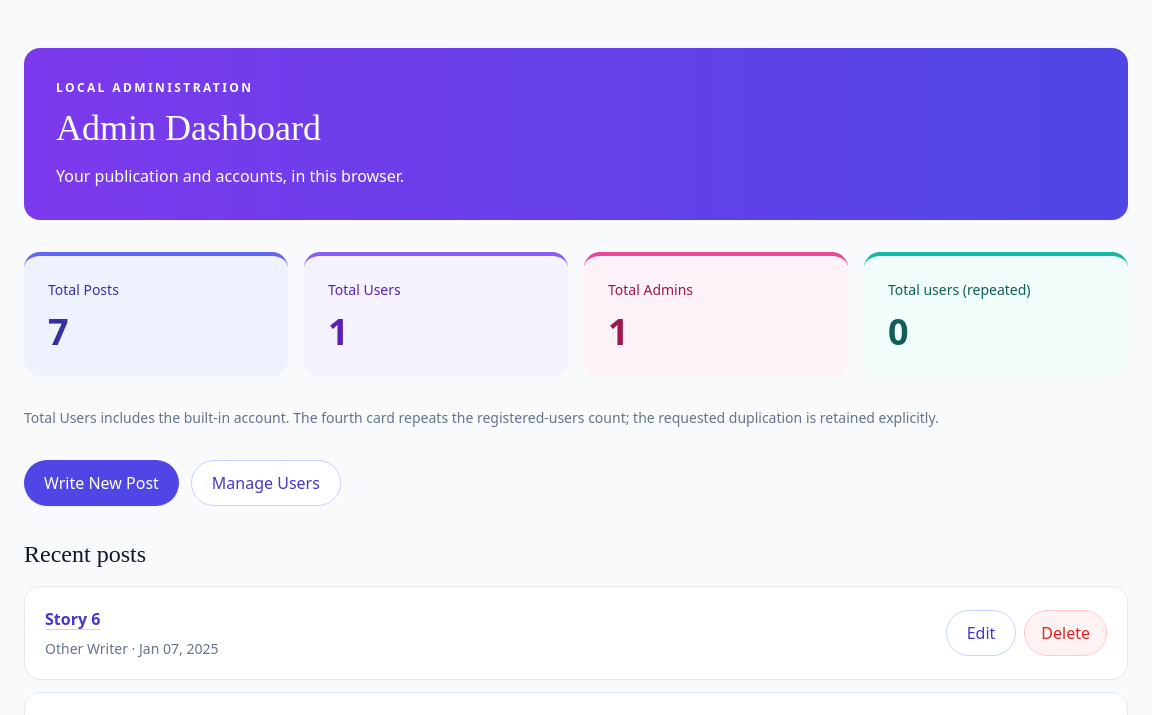
Test: AdminDashboard › cancel confirms no mutation, accept deletes another author and requeries newest fifth
Step 1. Click the button with aria-label "Delete Story 6" → (1066, 633), box [1024, 610, 1107, 656]
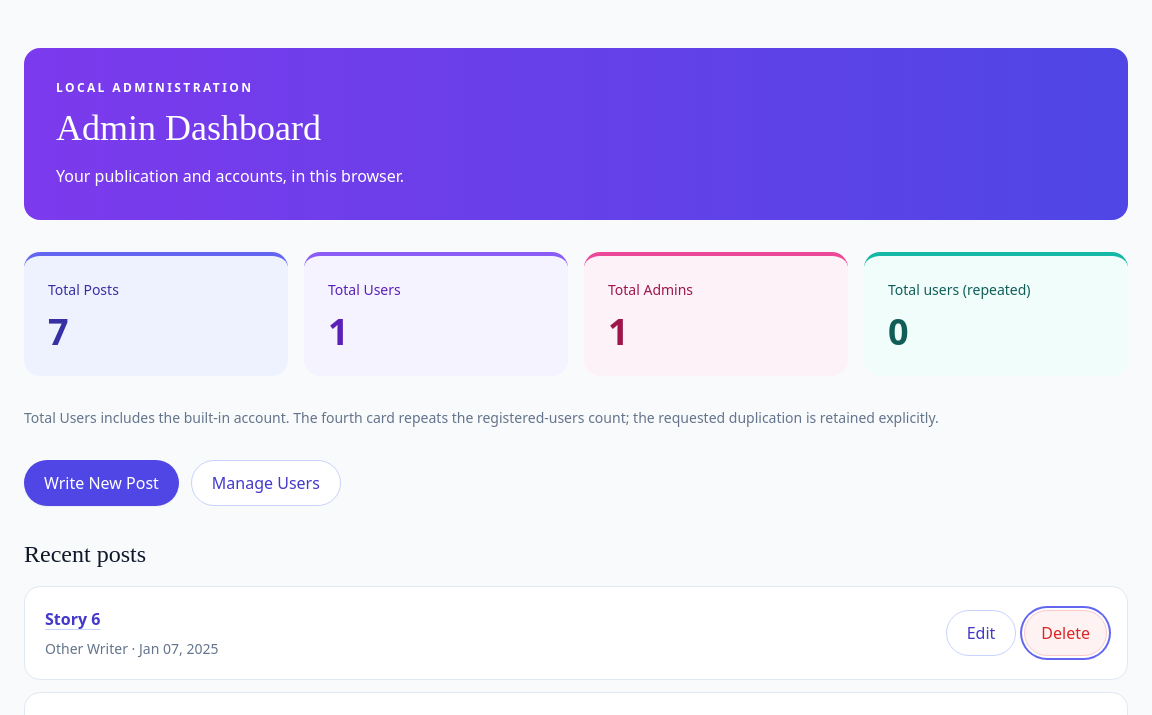
Step 2. Click the button with aria-label "Delete Story 6" → (1066, 633), box [1024, 610, 1107, 656]
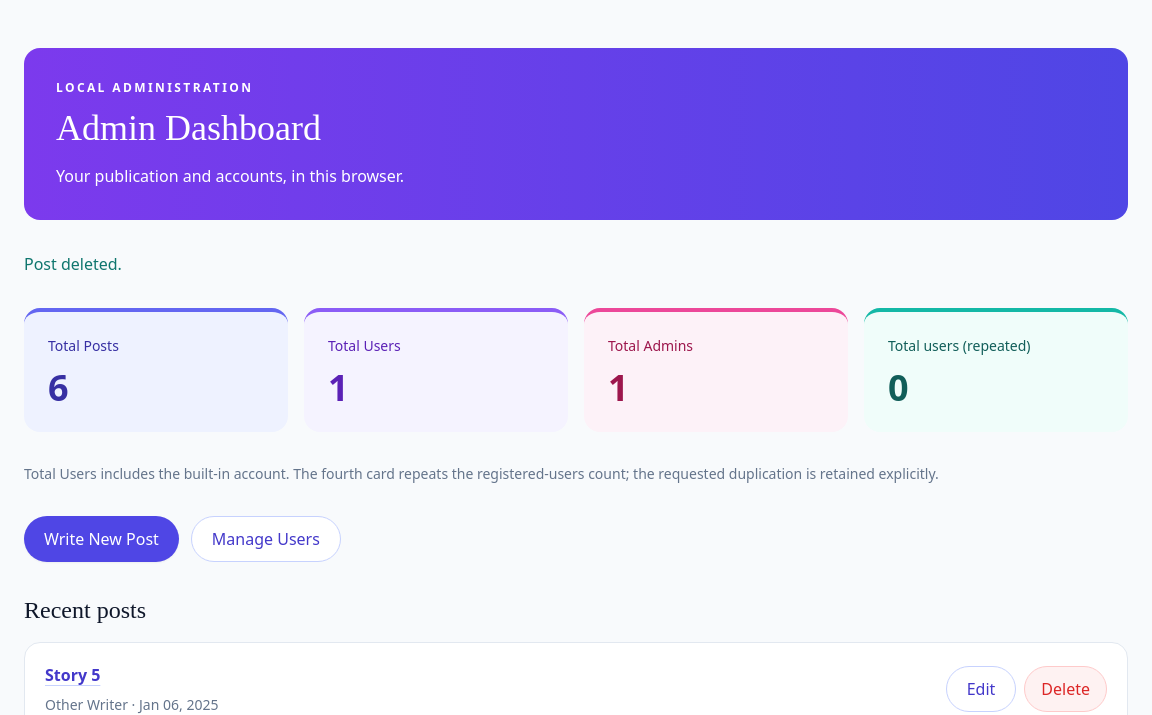
Result: the link "Story 6" is gone
Result: the message reads "Post deleted." at [24, 253, 122, 275]
Result: the text "6" is shown at [48, 363, 69, 412]
